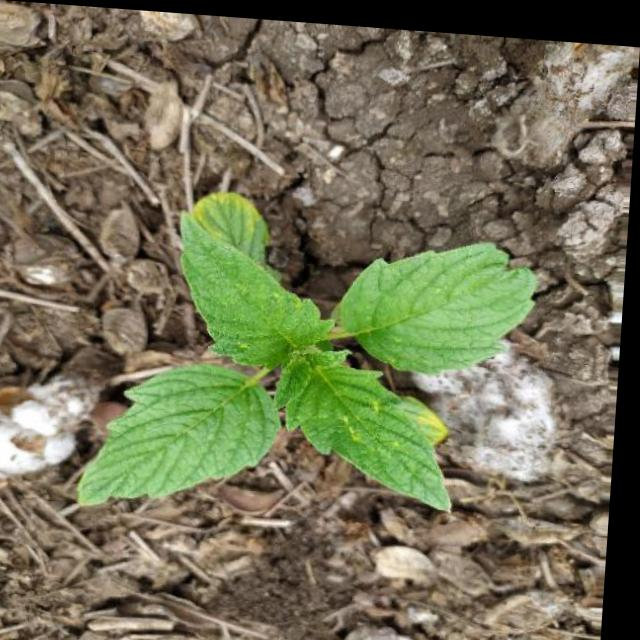crop: (75, 160, 549, 557)
